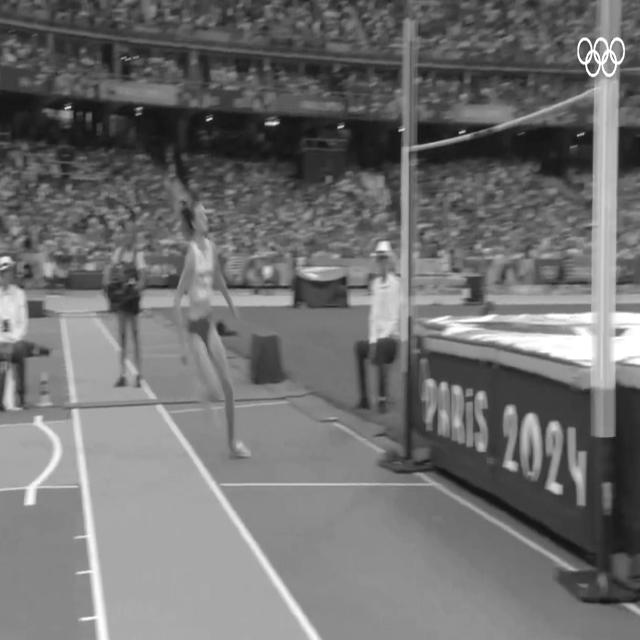run: (176, 200, 250, 455)
